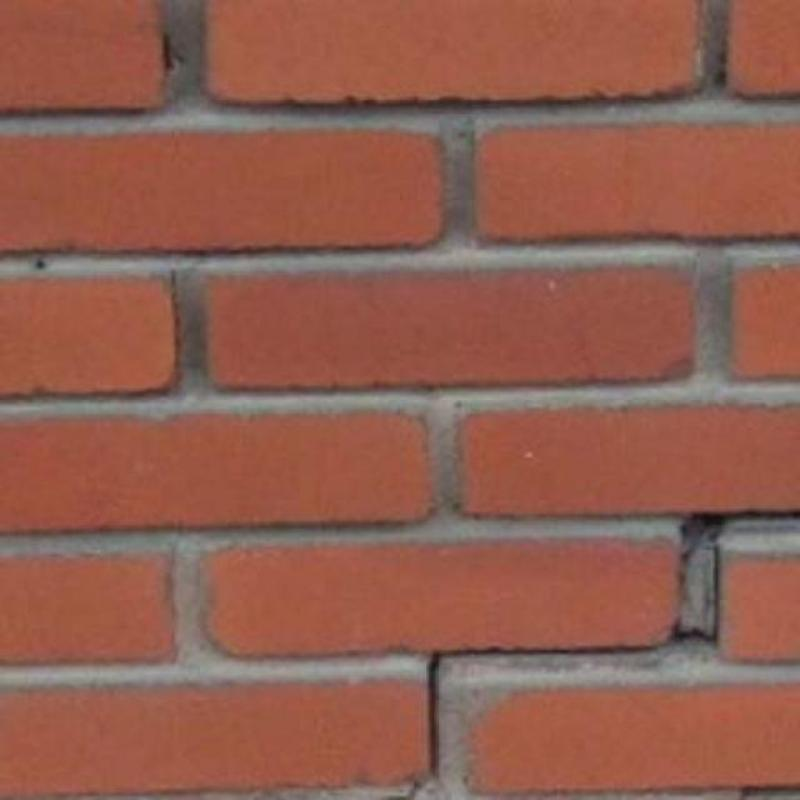pothole: (427, 510, 799, 779)
